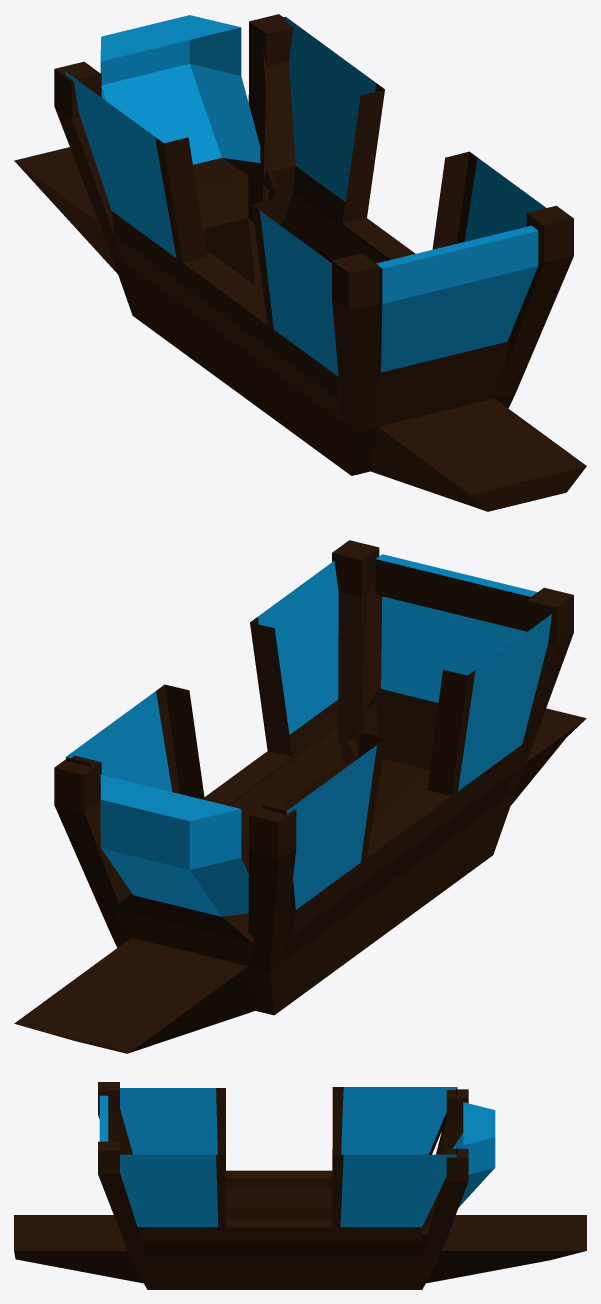
The model's file is cabin.obj.
3 renders of one model, top to bottom at view 1: azimuth 30°, elevation 25°; view 2: azimuth 150°, elevation 25°; view 3: azimuth 270°, elevation 25°, orthographic. The views are drawn at different scales.
Parts seen in each view (by area): view 1: Cube.001_Cube.002; view 2: Cube.001_Cube.002; view 3: Cube.001_Cube.002.
Part boxes in pixels (x1,y1,x2,y2): Cube.001_Cube.002: (14, 14, 586, 511); Cube.001_Cube.002: (14, 540, 586, 1053); Cube.001_Cube.002: (14, 1082, 586, 1289).
Bounding box in the file's own units: 0.7784 × 0.7998 × 2.74.
